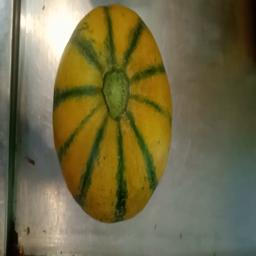Melon Fresh: (42, 2, 179, 228)
